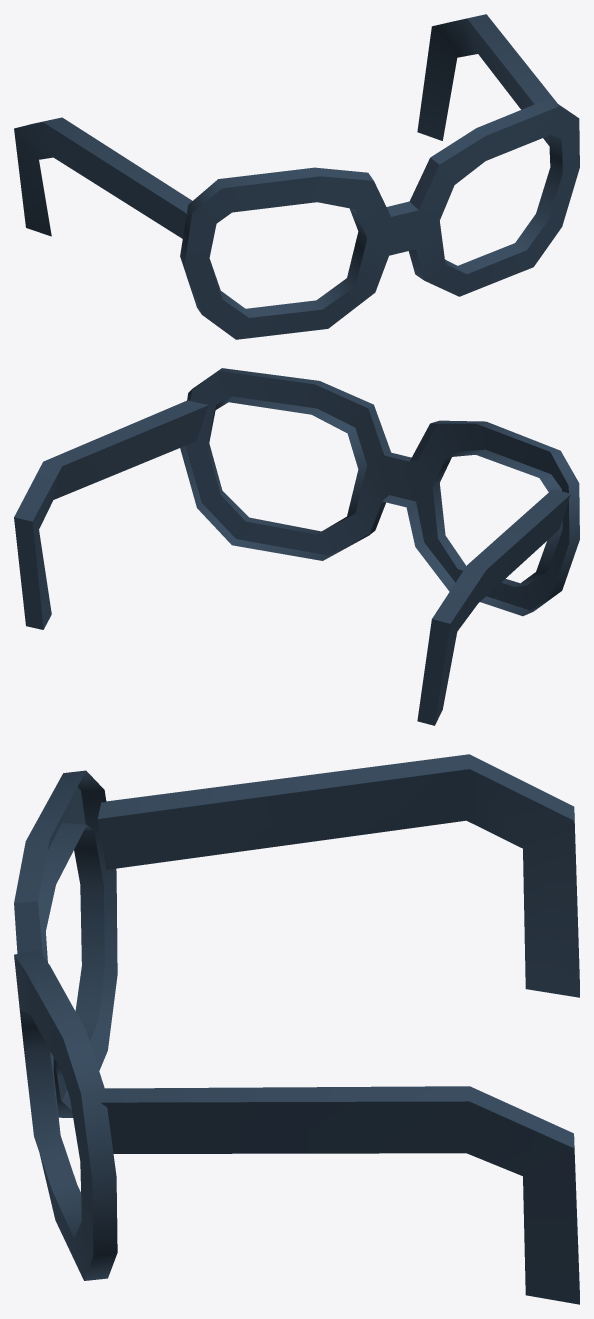
The model's file is Female_Glasses_01_v2.fbx.
3 views of the same model, one above another, from view 1: azimuth 30°, elevation 25°; view 2: azimuth 150°, elevation 25°; view 3: azimuth 270°, elevation 25° (orthographic). The views are drawn at different scales.
Parts seen in each view (by area): view 1: Female_Glasses_01_v2; view 2: Female_Glasses_01_v2; view 3: Female_Glasses_01_v2.
Part boxes in pixels (x1,y1,x2,y2): Female_Glasses_01_v2: [14, 14, 579, 339]; Female_Glasses_01_v2: [14, 368, 579, 725]; Female_Glasses_01_v2: [14, 754, 579, 1304].
Bounding box in the file's own units: 55.77 × 20.1 × 38.42.
